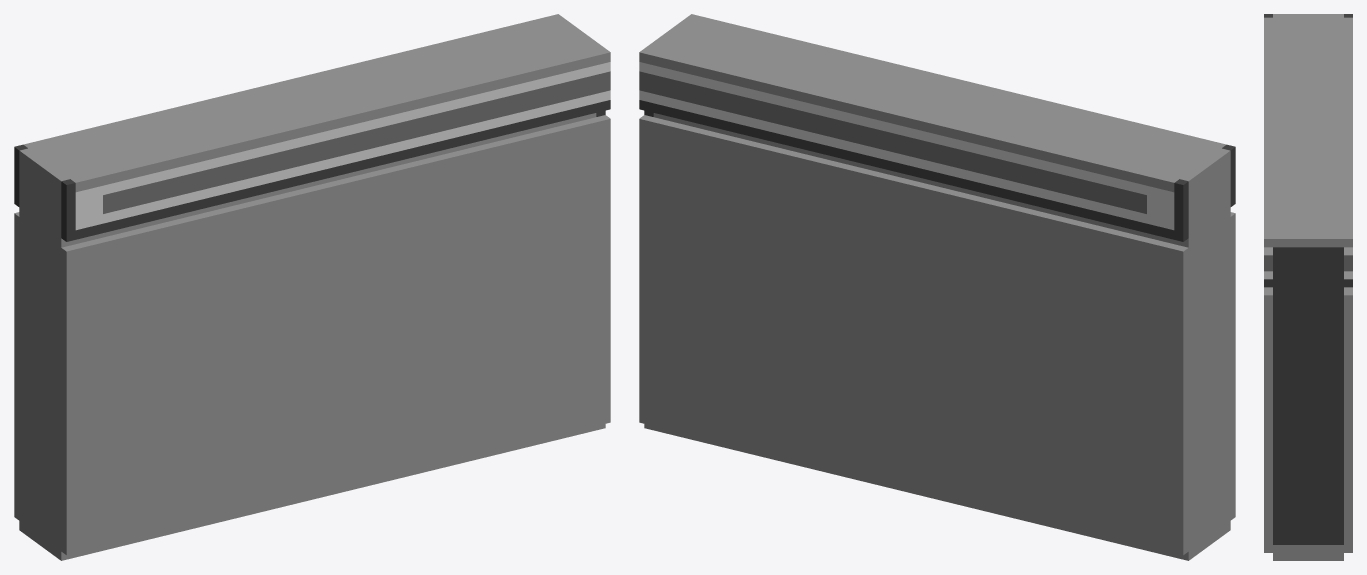
Rendered from Server Wall 1.obj.
3 views of the same model, side by side, from view 1: azimuth 30°, elevation 25°; view 2: azimuth 150°, elevation 25°; view 3: azimuth 270°, elevation 25° (orthographic). The views are drawn at different scales.
Size of the model in its own units: 60 by 40 by 10.
Materials: 1 (1 with a texture image).
